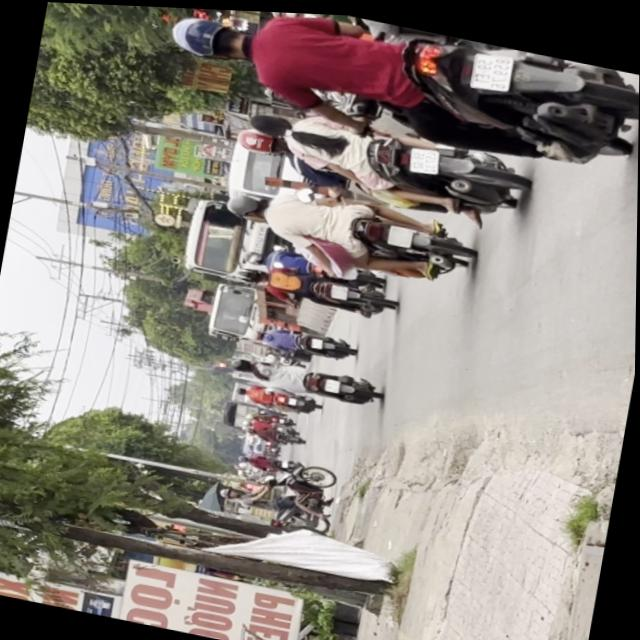helmet: (165, 6, 256, 67), (234, 122, 285, 156), (223, 187, 266, 218)
licenseplate: (154, 5, 640, 180), (225, 95, 532, 228), (216, 170, 481, 290), (221, 8, 525, 58)
motorcyclist: (246, 107, 289, 134)
nohelmet: (469, 46, 513, 90), (406, 141, 441, 172), (386, 221, 413, 243)
